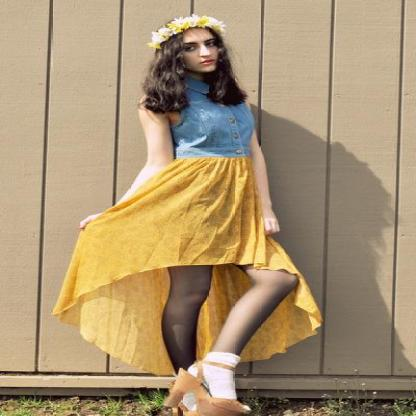hat: (152, 14, 224, 41)
shirt: (162, 81, 260, 158)
shoe: (163, 358, 251, 415)
skirt: (54, 156, 321, 374)
